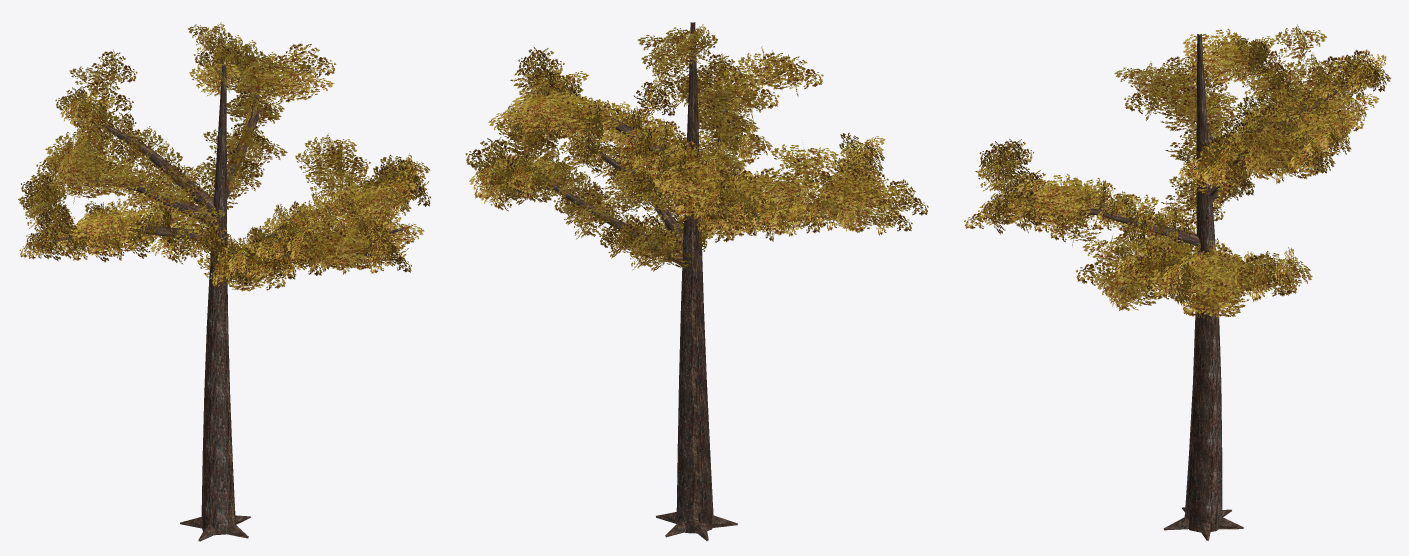
Rendered from tree_3d_03_yellow_lod1.glb.
3 renders of one model, left to right at view 1: azimuth 30°, elevation 25°; view 2: azimuth 150°, elevation 25°; view 3: azimuth 270°, elevation 25°, orthographic. The views are drawn at different scales.
Visible parts, largest first — view 1: foliage_cards, wood_geometry; view 2: foliage_cards, wood_geometry; view 3: foliage_cards, wood_geometry.
Boxes of the visible parts, x1=… form: foliage_cards: x1=18, y1=22, x2=430, y2=291; wood_geometry: x1=55, y1=65, x2=409, y2=541; foliage_cards: x1=465, y1=24, x2=928, y2=271; wood_geometry: x1=542, y1=22, x2=881, y2=541; foliage_cards: x1=964, y1=24, x2=1390, y2=323; wood_geometry: x1=1009, y1=34, x2=1350, y2=540.
Bounding box in the file's own units: 9.89 × 10.63 × 8.38.
2 materials, 2 textured.
